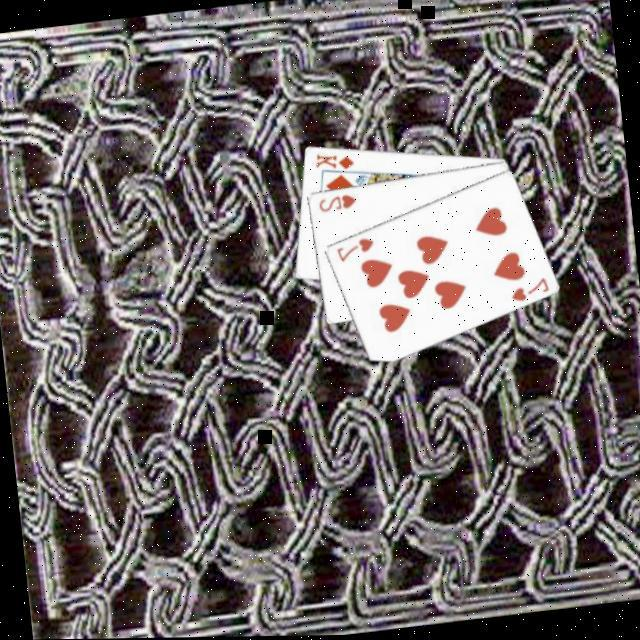2H: (312, 192, 357, 217)
7H: (504, 275, 551, 307), (330, 235, 376, 267)
KD: (309, 148, 355, 177)
